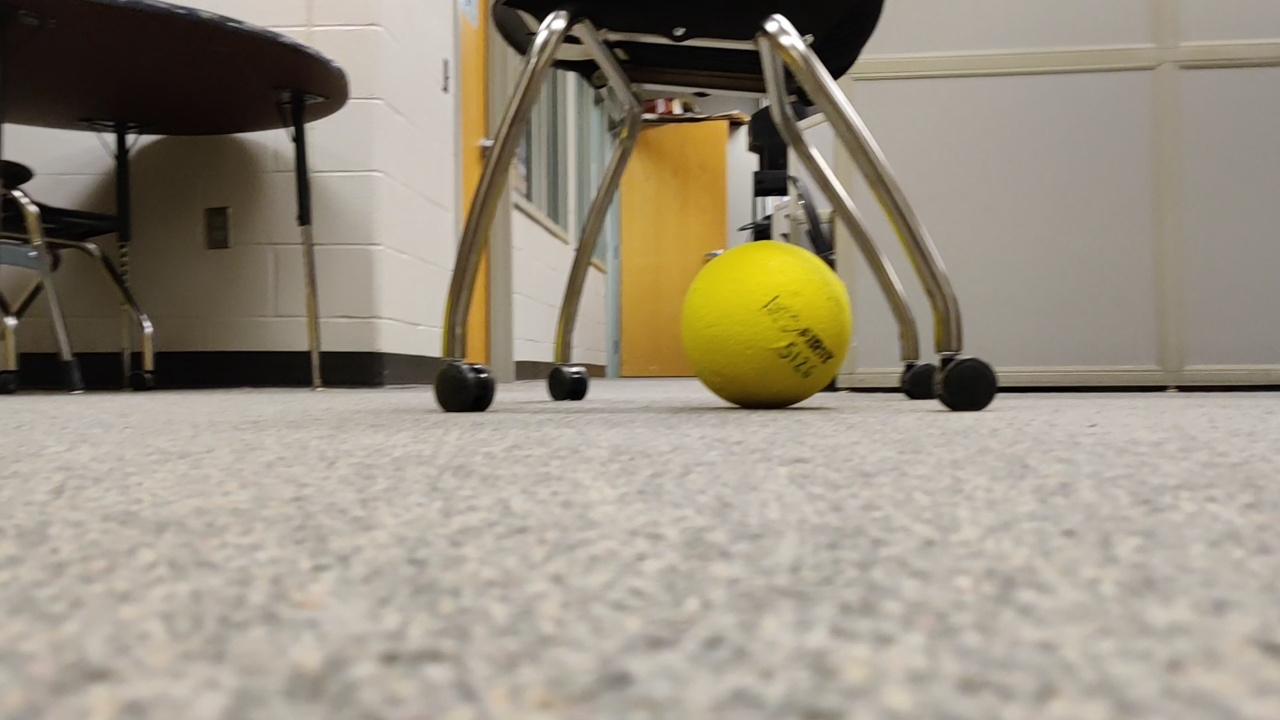Ball: (685, 240, 856, 422)
